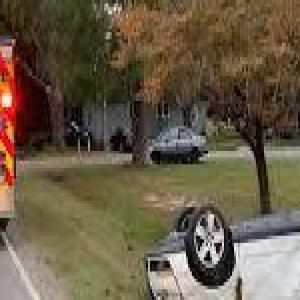severe: (140, 160, 300, 300)
